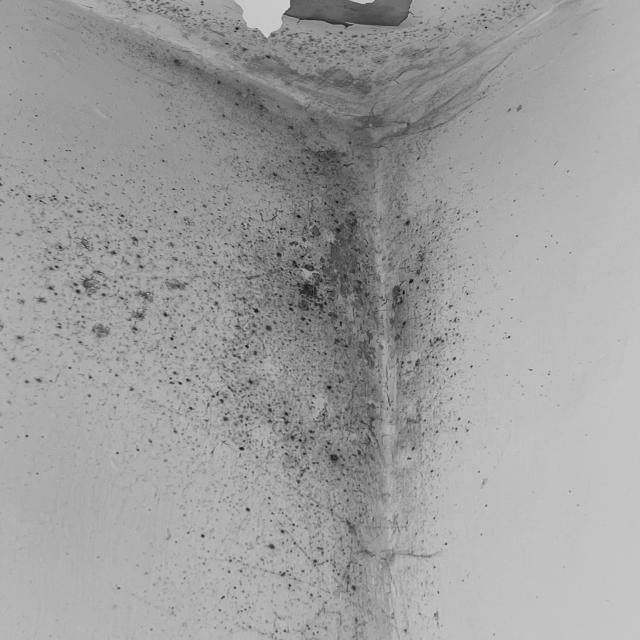stain marks: (0, 136, 522, 640), (0, 0, 555, 135)
